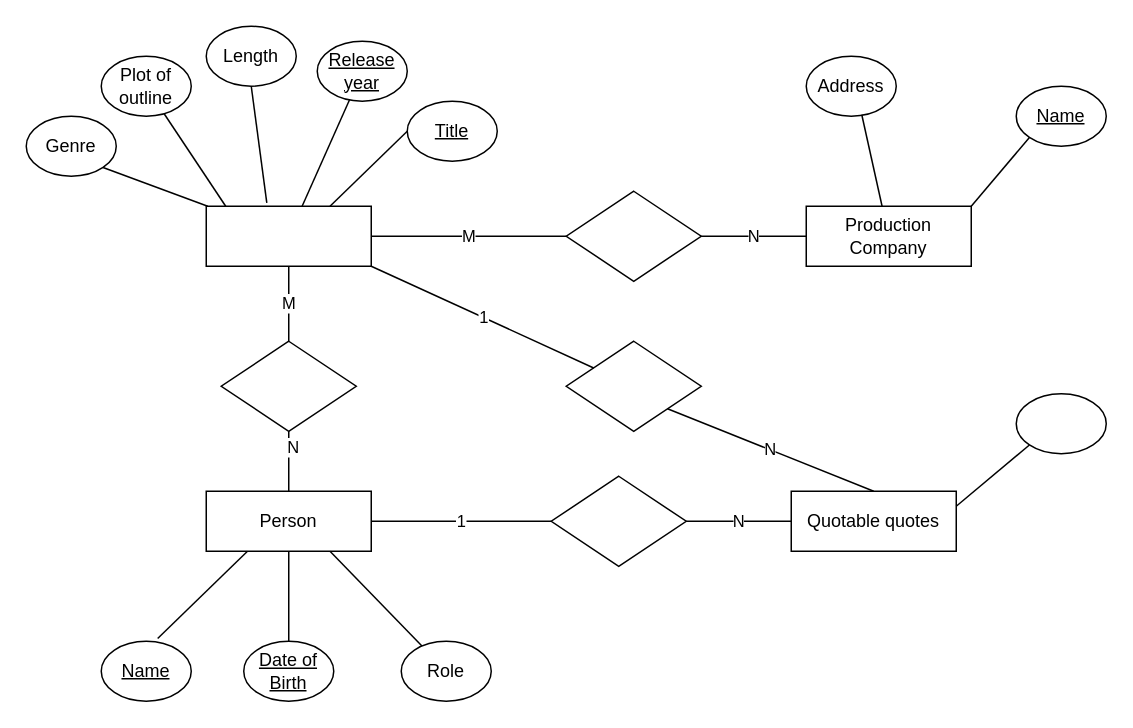
Image size: 1133x728. Some labels were removed from this diagram. Each missing label, with the centre of its shape:
"Has" belongs at (x=633, y=385).
"Movie" belongs at (x=288, y=235).
"Produces" belongs at (x=633, y=235).
"Quote" belongs at (x=1060, y=423).
"Said" belongs at (x=618, y=520).
"Takes part as" belongs at (x=288, y=385).
